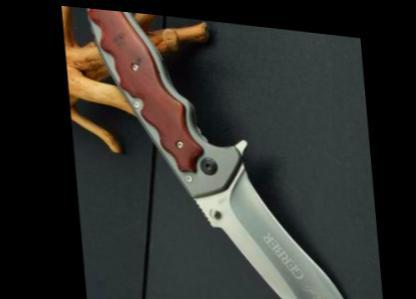knife: (163, 123, 366, 297)
